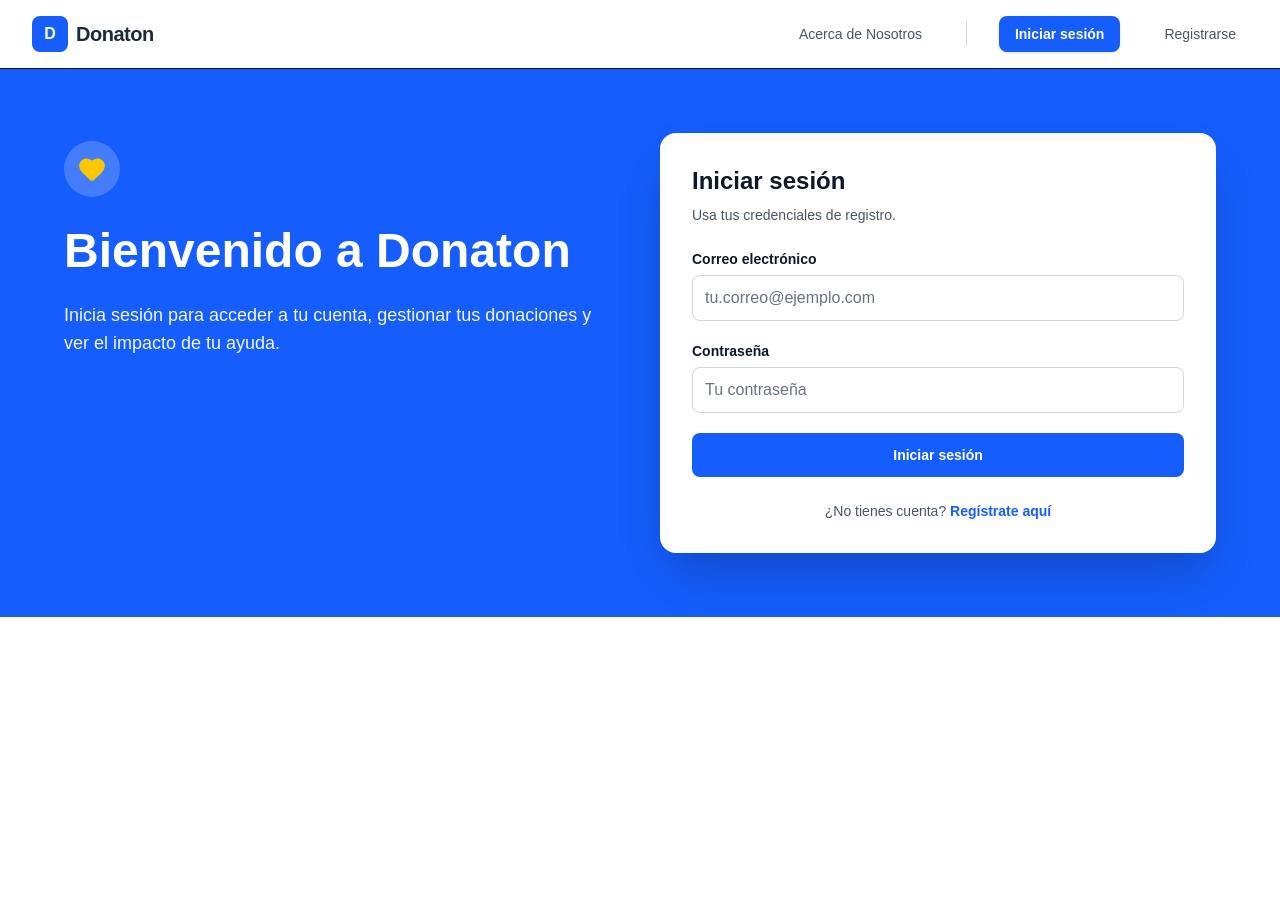
LoginPage - Pruebas de Interfaz › Debería mostrar mensajes de error si se intenta enviar vacío
// Simulamos el click del usuario sin llenar nada
Click the button "Iniciar sesión" at x=938, y=455, box [692,433,1184,477]
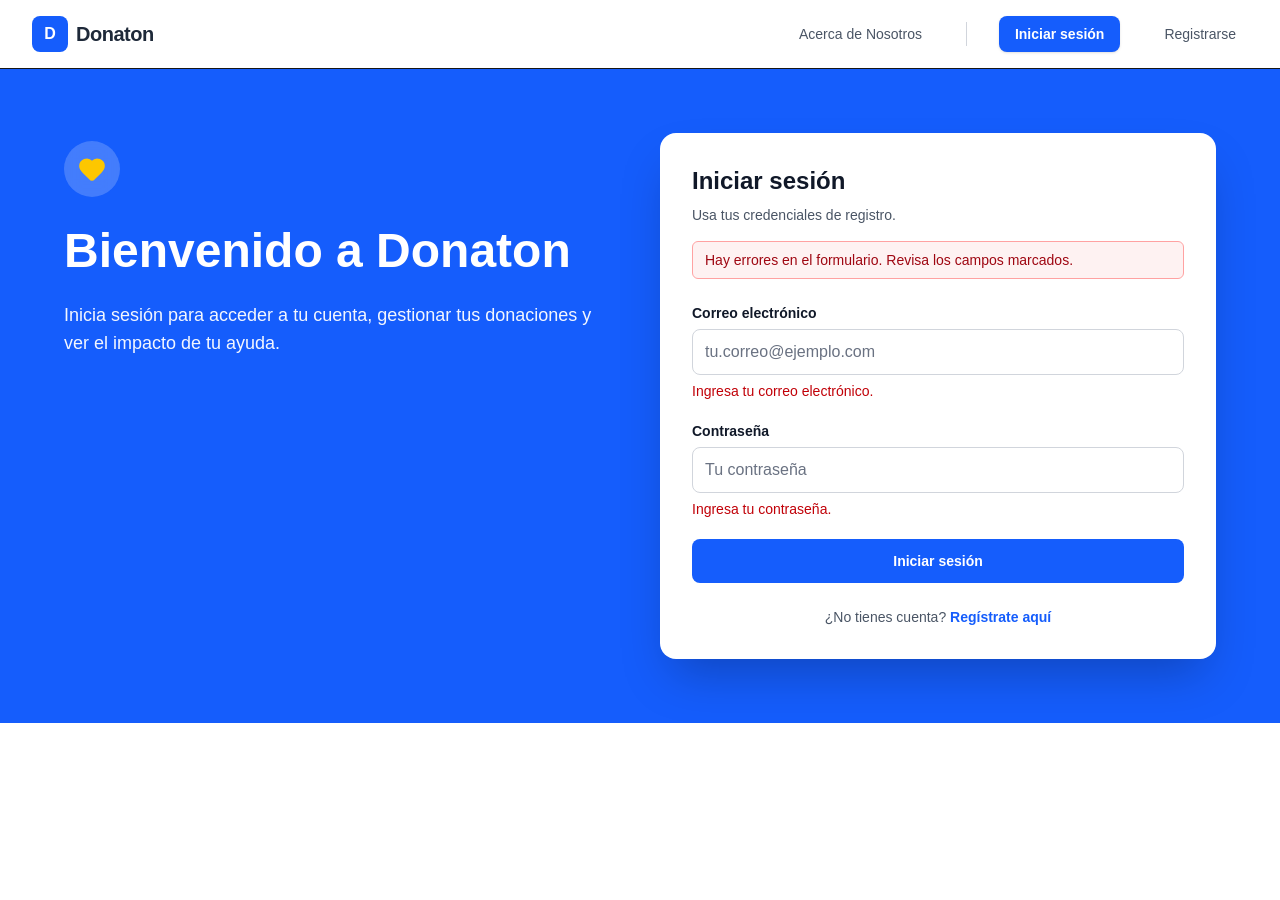
Now the text "Ingresa tu correo electrónico." is shown, box [692,383,873,399]
